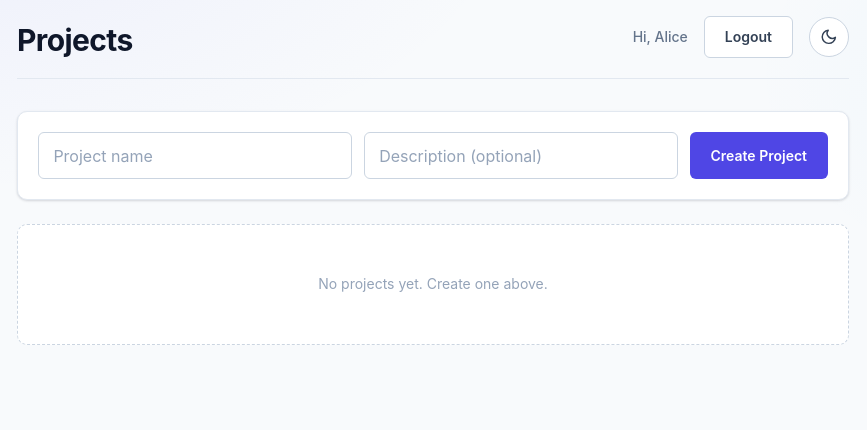
Test: Projects page › shows an error message when creating a project fails
The image size is (867, 430).
Expected: the button "Create Project" is shown, [690,132,828,179]
In the field with placeholder "Project name": (195, 156) [38,132,352,179], type "Bad"
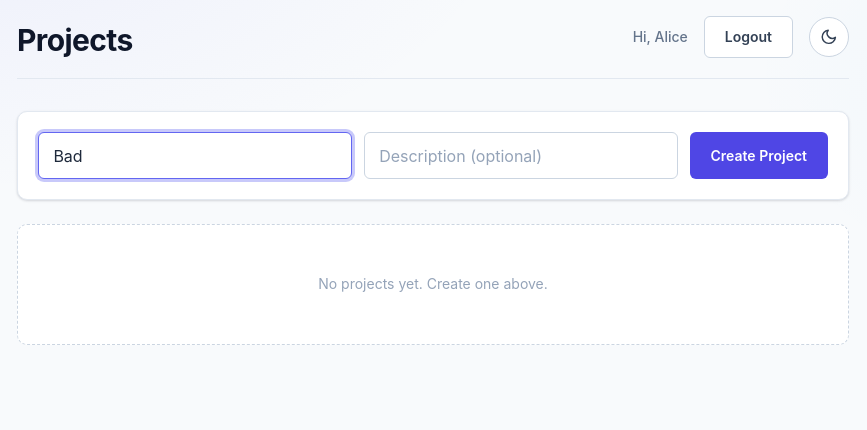
Click the button "Create Project": (759, 156) [690,132,828,179]
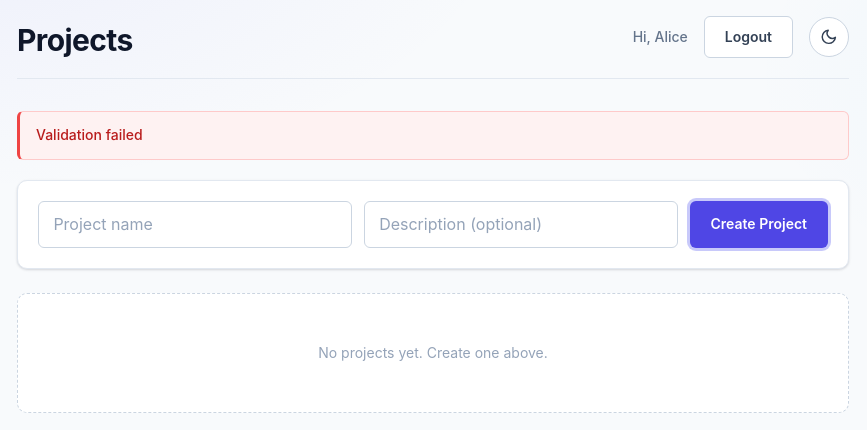
Expected: the text "Validation failed" is shown, [17,111,849,160]
